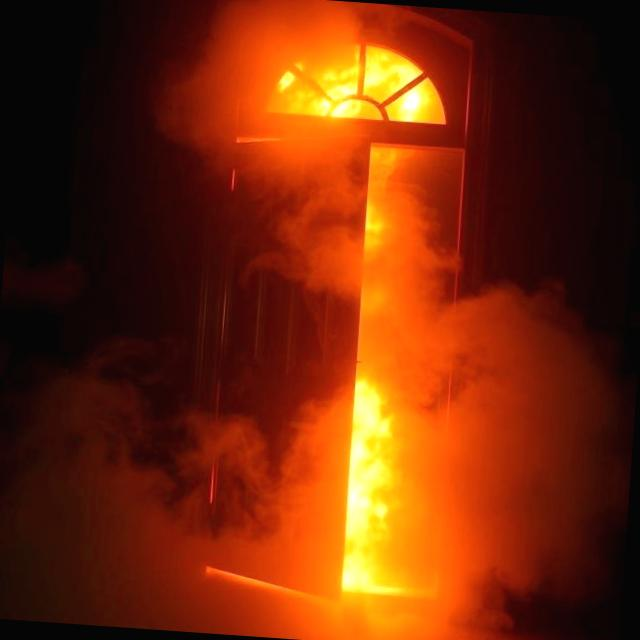fire: (156, 0, 518, 626)
